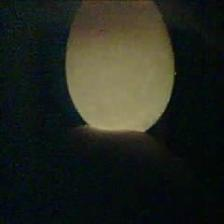infertile: (64, 0, 176, 133)
